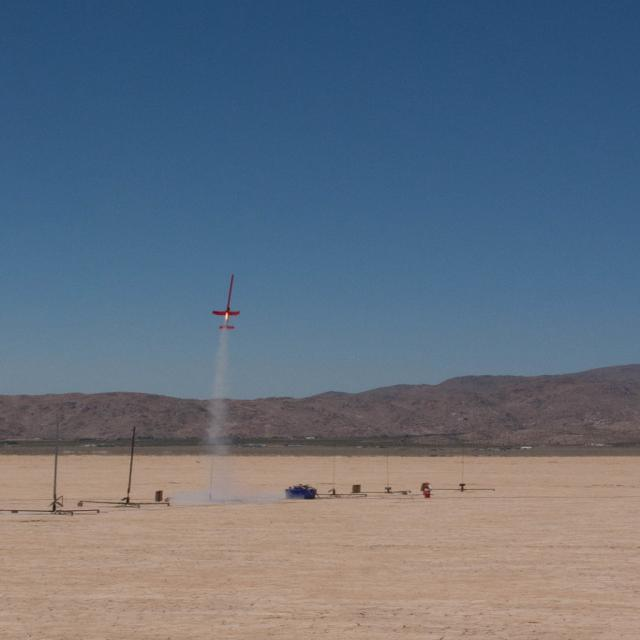missile: (222, 270, 237, 336)
